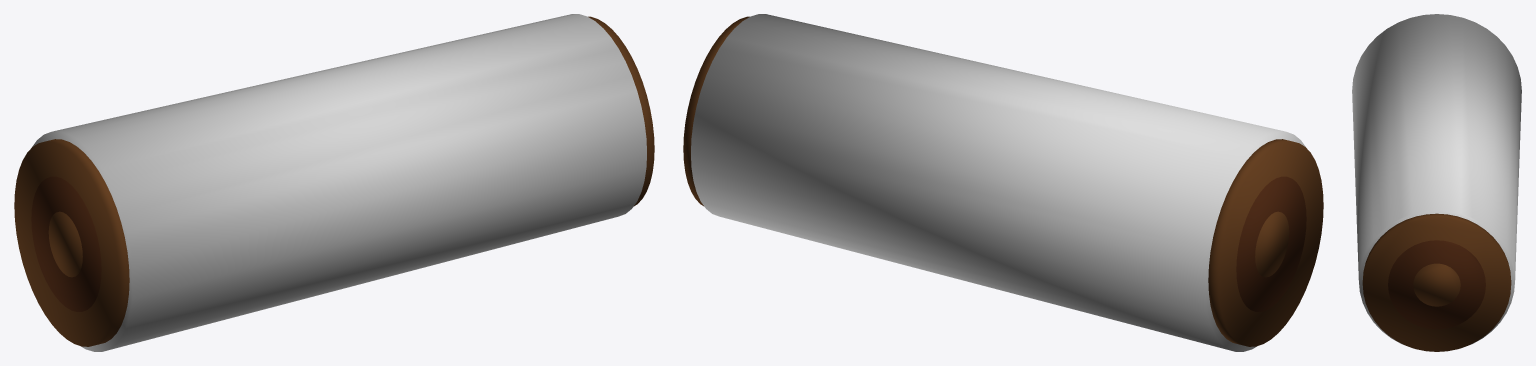
Rendered from short-log.obj.
3 renders of one model, left to right at view 1: azimuth 30°, elevation 25°; view 2: azimuth 150°, elevation 25°; view 3: azimuth 270°, elevation 25°, orthographic. The views are drawn at different scales.
Parts seen in each view (by area): view 1: short-log; view 2: short-log; view 3: short-log.
Part boxes in pixels (bbox=[...]): short-log: bbox=[14, 14, 654, 351]; short-log: bbox=[683, 14, 1323, 351]; short-log: bbox=[1352, 14, 1521, 351].
Bounding box in the file's own units: 0.94 × 0.34 × 0.34.
